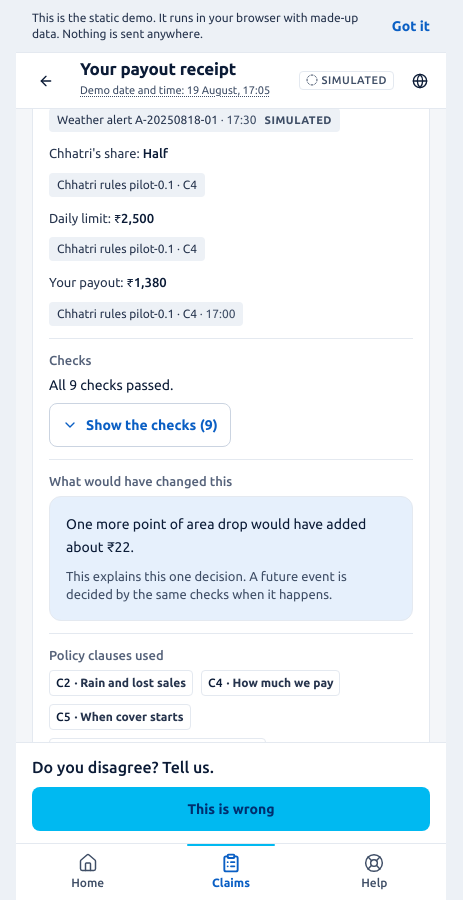
Scenario: the checks › collapse under one sentence when all passed, and open with every check, its words and its sources
(page scrolled)
Expected: the element with test id "receipt-checks" shows "All 9 checks passed.", [49,377,174,393]
Click the button with test id "receipt-checks-toggle" at (140,425), box [49,403,231,447]
(page scrolled)
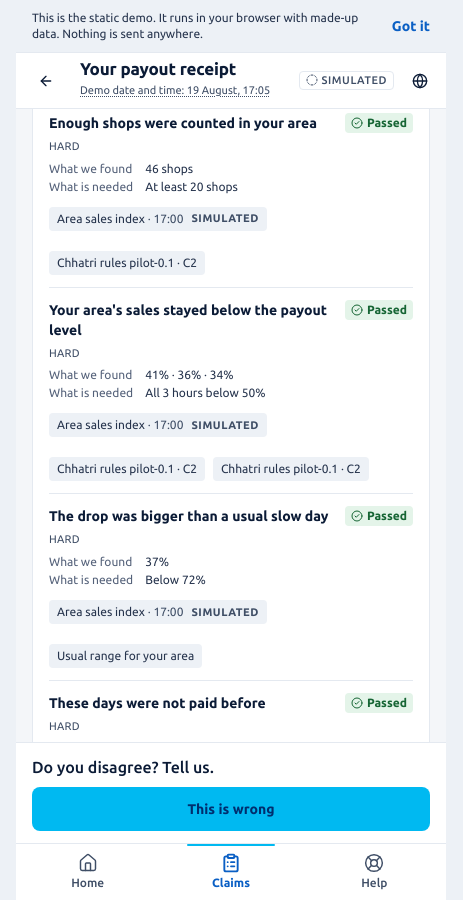
Expected: the list item with test id "receipt-check-BELOW_FLOOR" shows "Your area's sales stayed below the payout level", [49,302,327,338]
Expected: the list item with test id "receipt-check-BELOW_FLOOR" shows "Passed", [367,303,407,316]
Expected: the list item with test id "receipt-check-BELOW_FLOOR" shows "What we found", [49,368,132,381]
